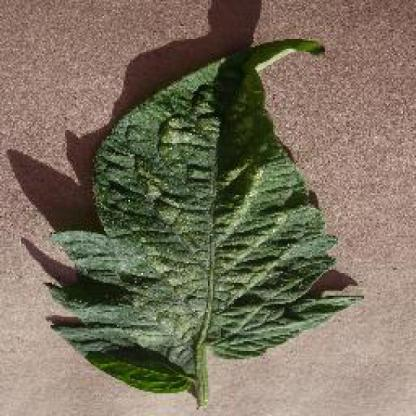Tomato_Spider_Mites: (45, 41, 363, 390)
